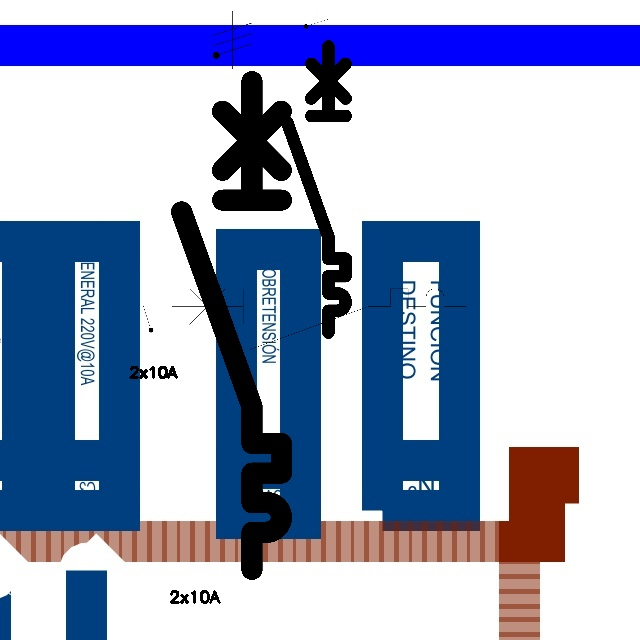interruptor_termomagnetico: (169, 68, 294, 581), (164, 281, 474, 357), (280, 39, 353, 340)
